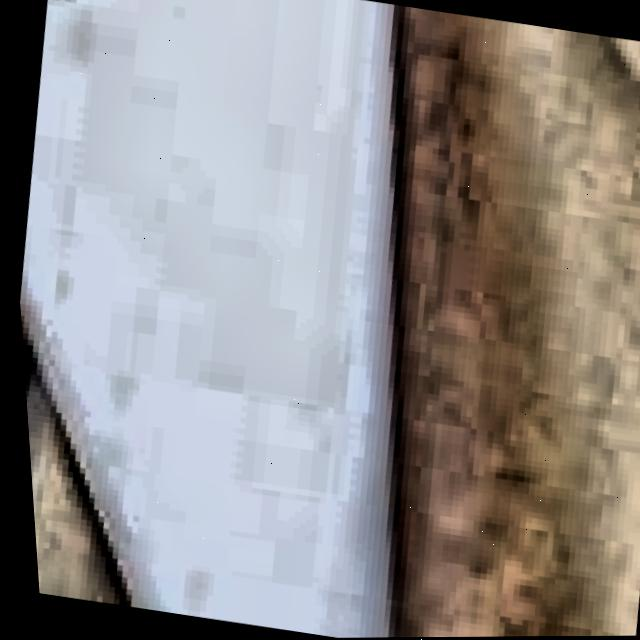paper: (15, 0, 398, 638), (385, 5, 640, 638)
